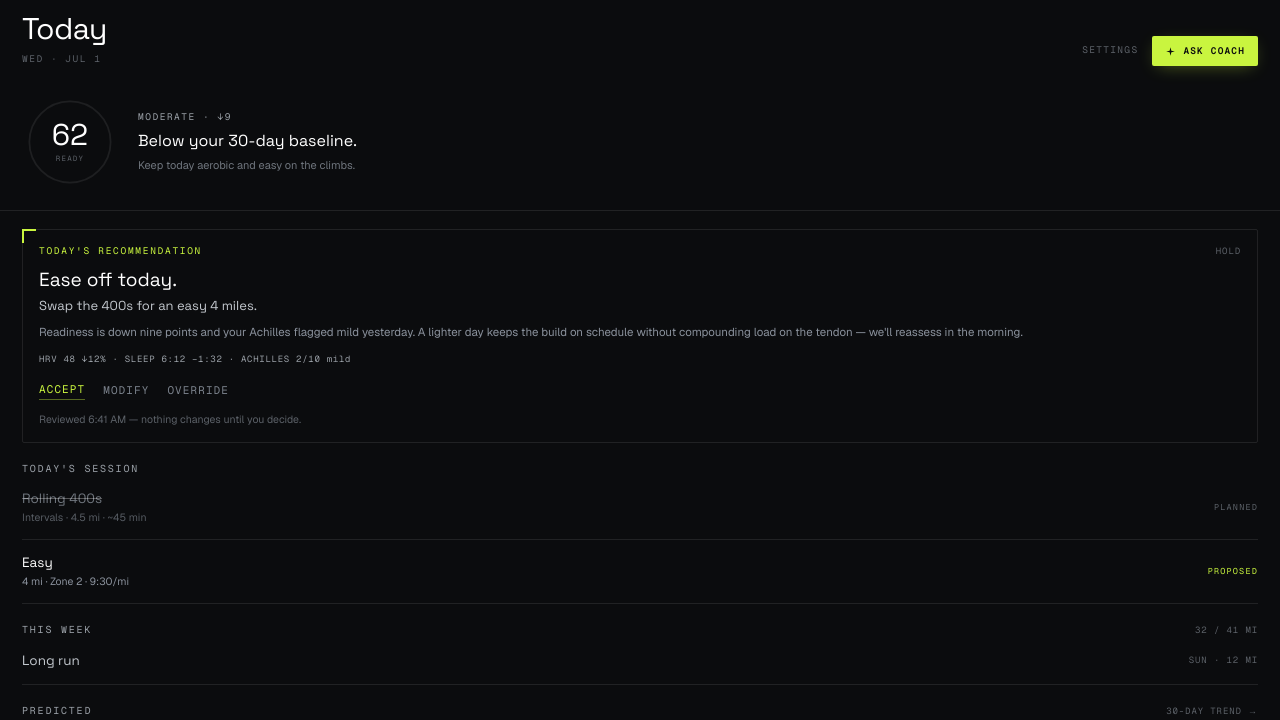
Scenario: OVERRIDE keeps the original 400s unstruck
The image size is (1280, 720).
Click the button "OVERRIDE". click: point(198, 391)
box: [167,382,229,399]
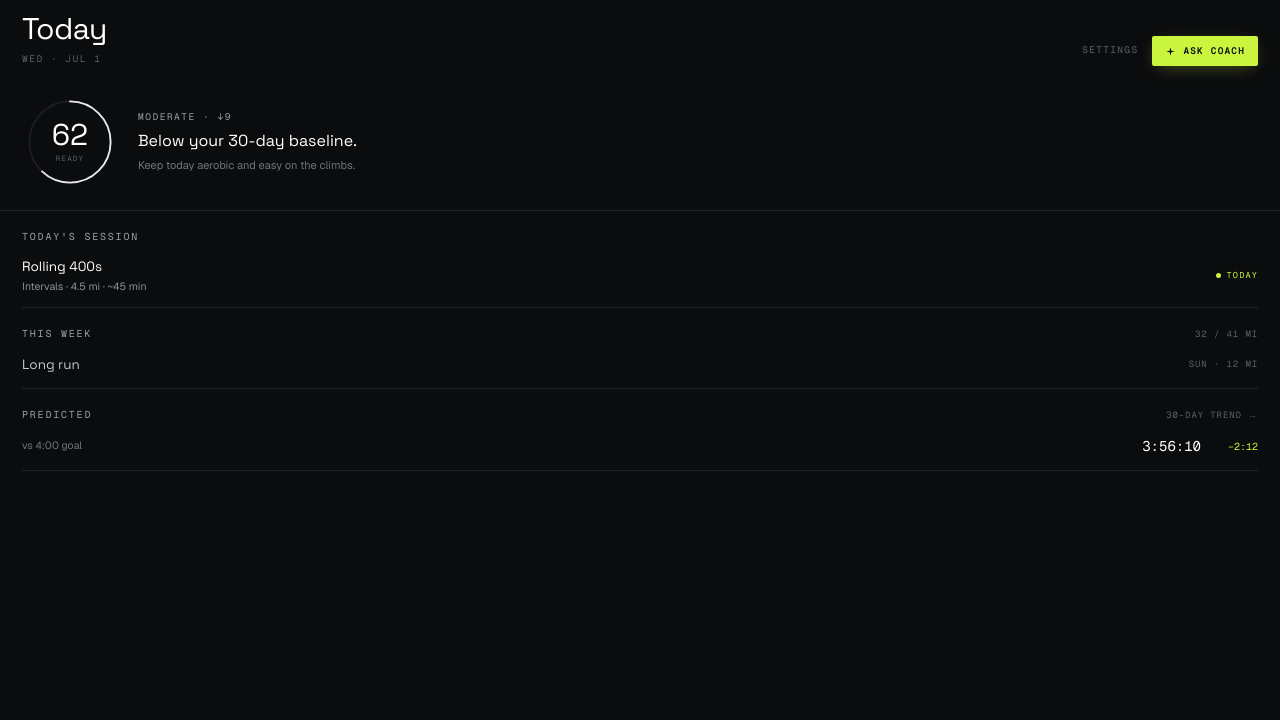
Expected: the text "PROPOSED" is gone
